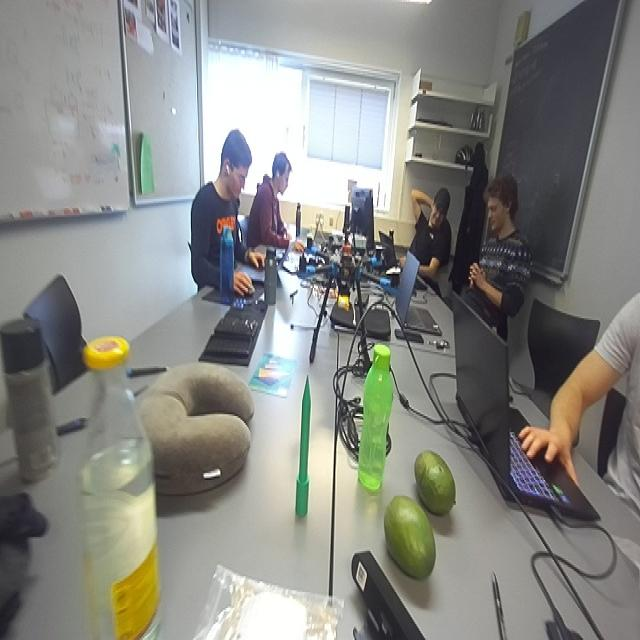probe: (295, 377, 310, 516)
